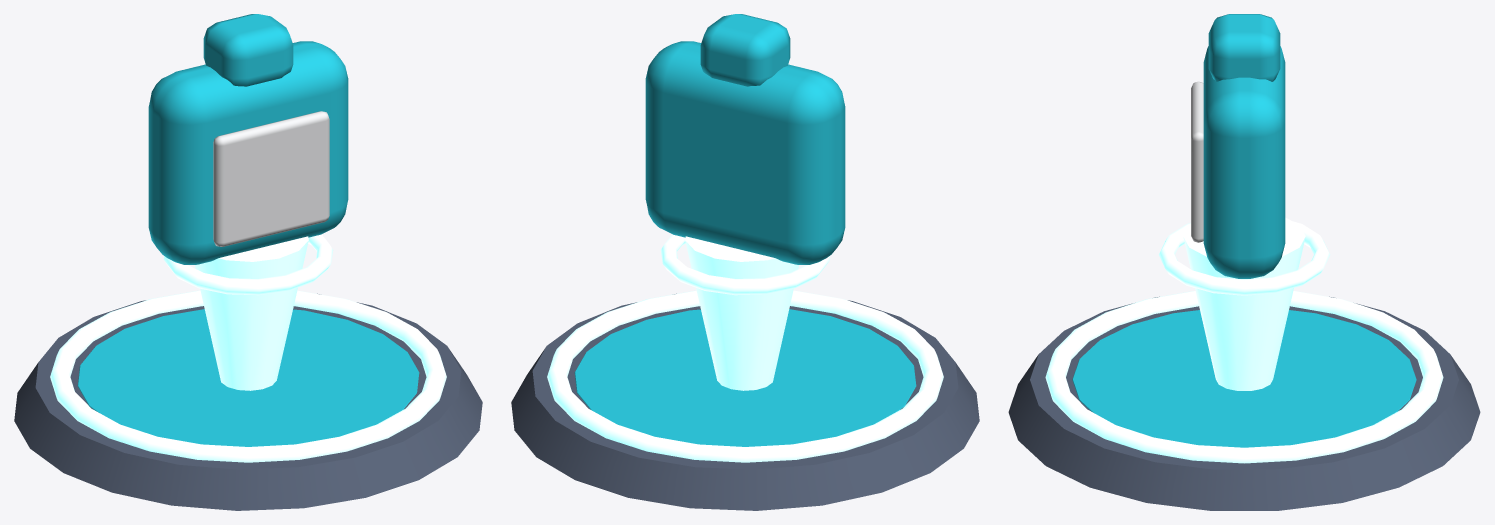
File: hero-shooter-harbour-payload-pickup-armour-pack-0e9801a5__27679.glb
3 renders of one model, left to right at view 1: azimuth 30°, elevation 25°; view 2: azimuth 150°, elevation 25°; view 3: azimuth 270°, elevation 25°, orthographic.
Parts seen in each view (by area): view 1: pickup-armour-pack, item/defence, item/shell; view 2: pickup-armour-pack, item/defence; view 3: pickup-armour-pack, item/defence, item/shell.
Part boxes in pixels (left/top/right/bottom): pickup-armour-pack: left=14, top=234, right=482, bottom=510; item/defence: left=148, top=14, right=348, bottom=264; item/shell: left=213, top=111, right=329, bottom=246; pickup-armour-pack: left=511, top=234, right=979, bottom=510; item/defence: left=645, top=14, right=845, bottom=264; pickup-armour-pack: left=1008, top=217, right=1480, bottom=510; item/defence: left=1203, top=14, right=1285, bottom=278; item/shell: left=1191, top=81, right=1203, bottom=242.
Size of the model in its own units: 0.9146 by 0.84 by 0.924.
